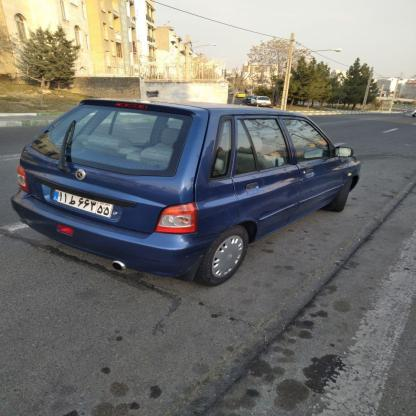Car: (0, 100, 367, 285)
